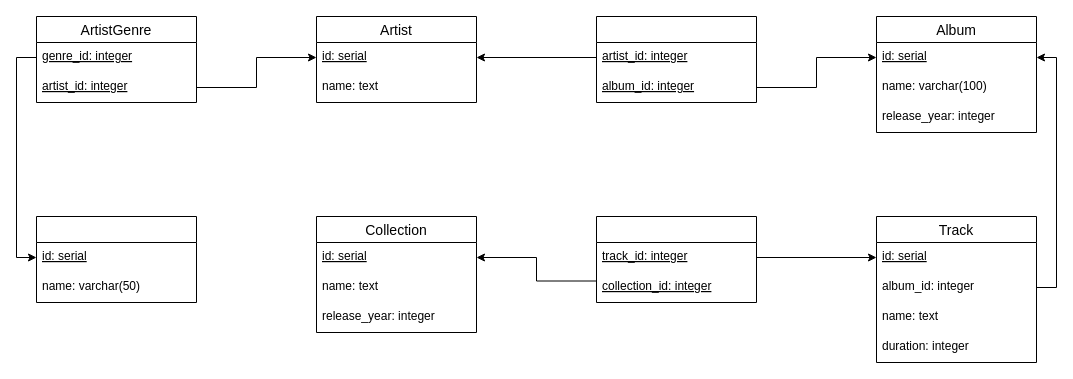
This 1073x379 diagram has some shape labels left out. Here are the shapes that lost their labels. From the top down, the box of each, then its label:
(596, 16, 756, 102): ArtistAlbum
(36, 216, 196, 302): Genre
(596, 216, 756, 302): TrackCollection
